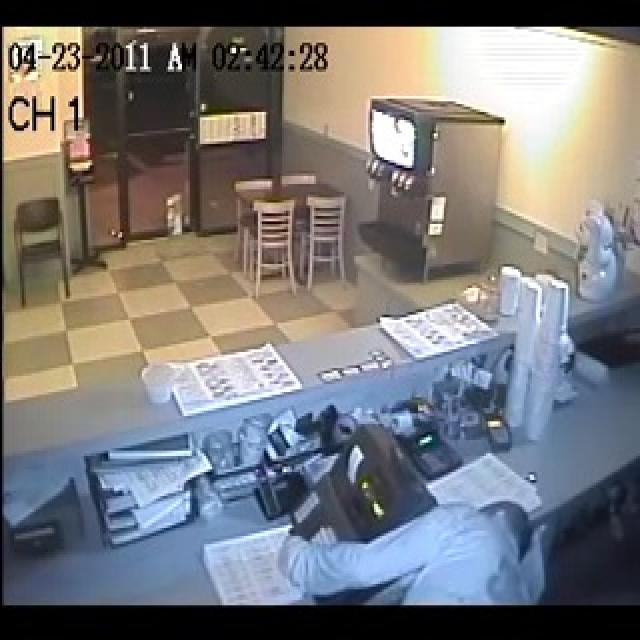thief: (325, 409, 533, 608)
